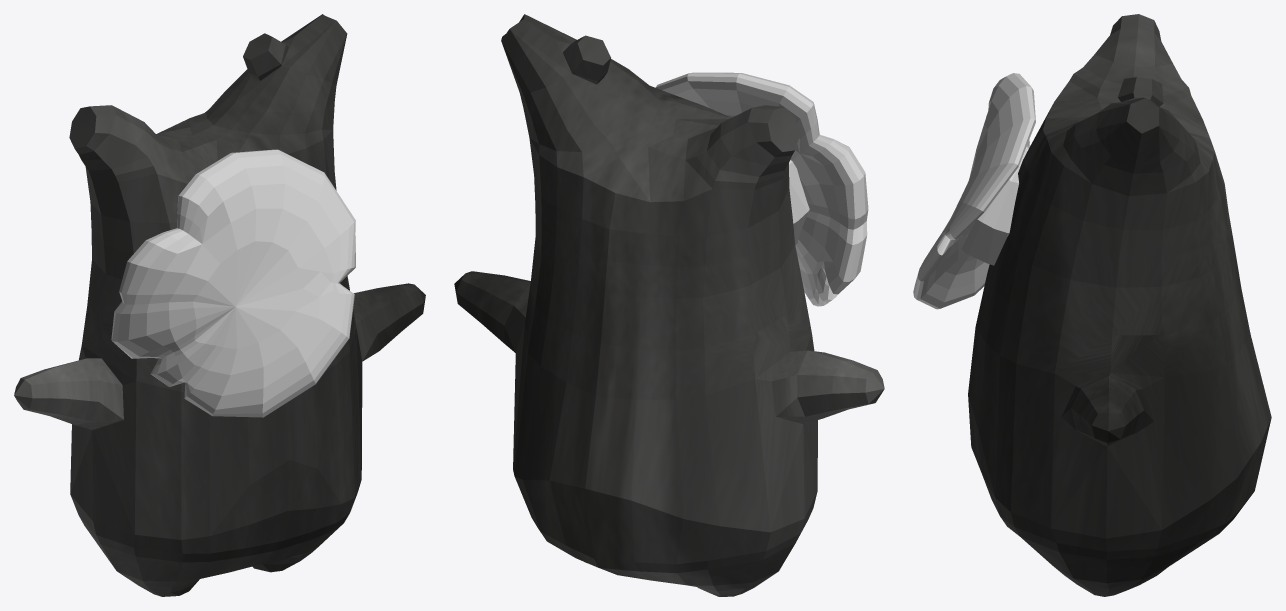
The model's file is frame_0034.obj.
The picture shows the model from 3 angles, left to right: view 1: azimuth 30°, elevation 25°; view 2: azimuth 150°, elevation 25°; view 3: azimuth 270°, elevation 25°; orthographic projection. The views are drawn at different scales.
Visible parts, largest first — view 1: korok, leaf; view 2: korok, leaf, nose; view 3: korok, leaf, nose.
Part boxes in pixels (x1,y1,x2,y2): korok: (14,14,425,596); leaf: (111,149,355,417); korok: (454,14,884,596); leaf: (655,72,868,306); nose: (789,160,809,244); korok: (968,14,1271,596); leaf: (913,73,1035,309); nose: (961,145,1029,265).
Bounding box in the file's own units: 1.85 × 2.25 × 1.38.
